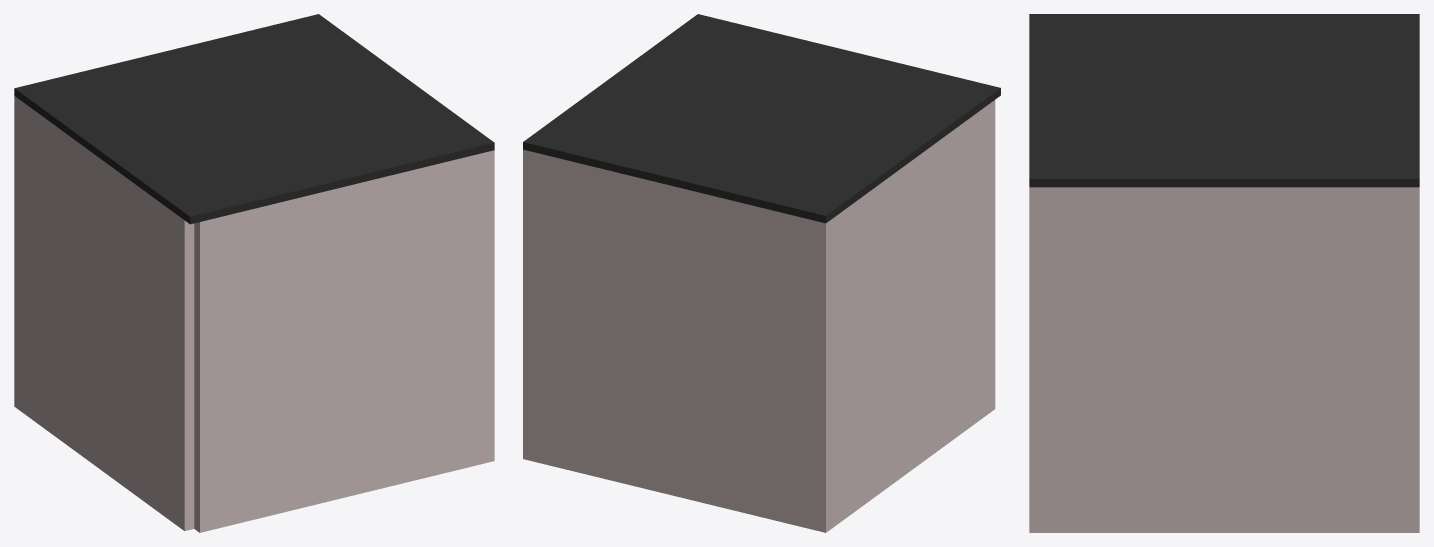
Rendered from corner.obj.
3 renders of one model, left to right at view 1: azimuth 30°, elevation 25°; view 2: azimuth 150°, elevation 25°; view 3: azimuth 270°, elevation 25°, orthographic. The views are drawn at different scales.
Bounding box in the file's own units: 12.6 × 12.6 × 12.6.
1 material, 1 textured.
